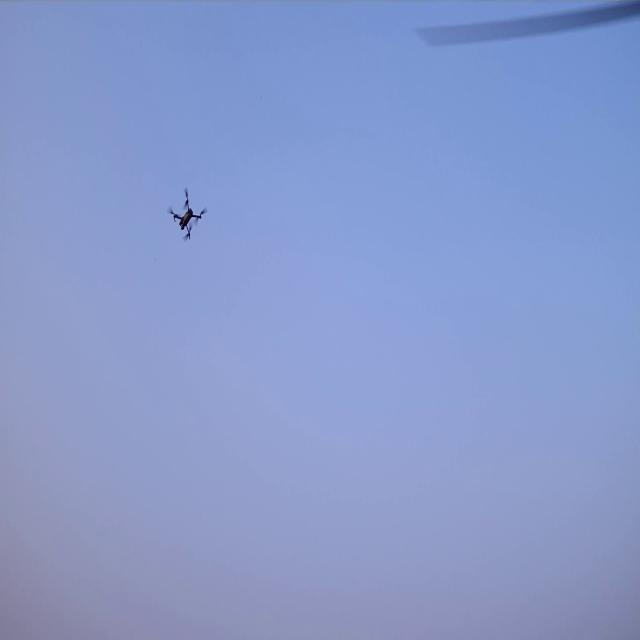UAV: (171, 193, 203, 239)
